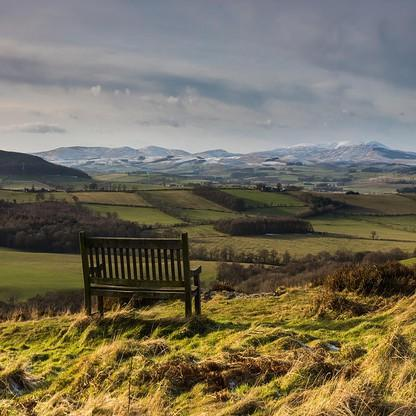obstacle: (65, 221, 213, 328)
